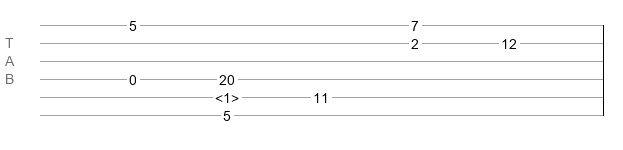0: (129, 72, 137, 82)
11: (313, 90, 329, 100)
12: (501, 36, 517, 46)
2: (411, 36, 419, 46)
20: (219, 72, 235, 82)
5: (129, 18, 137, 28), (223, 108, 231, 118)
7: (411, 18, 419, 28)
harmonic: (215, 90, 239, 100)
